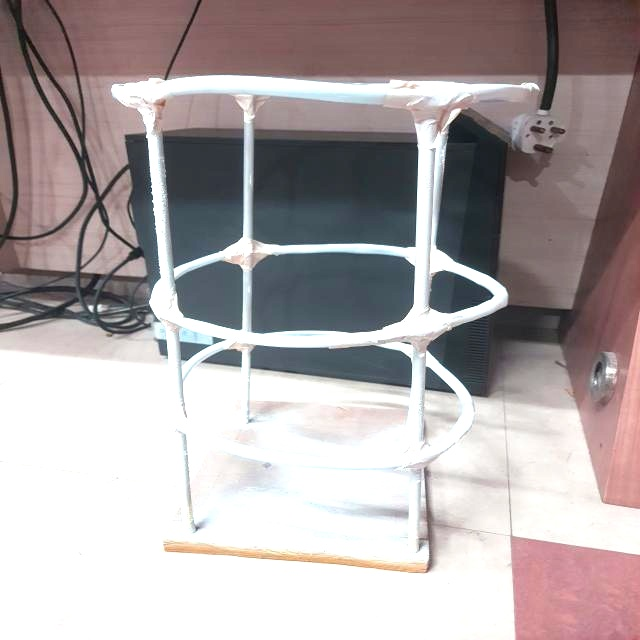silo: (130, 73, 530, 566)
